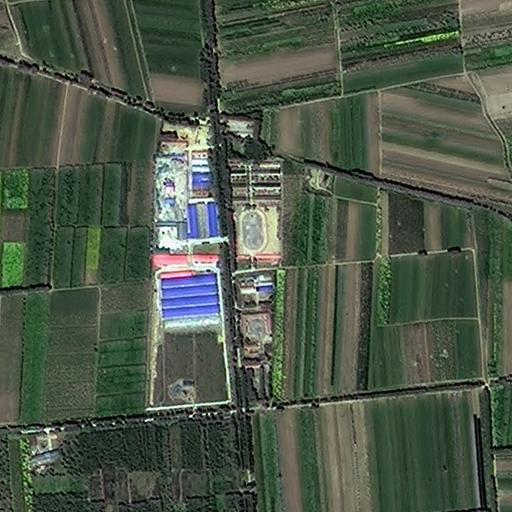school: (226, 157, 284, 270)
